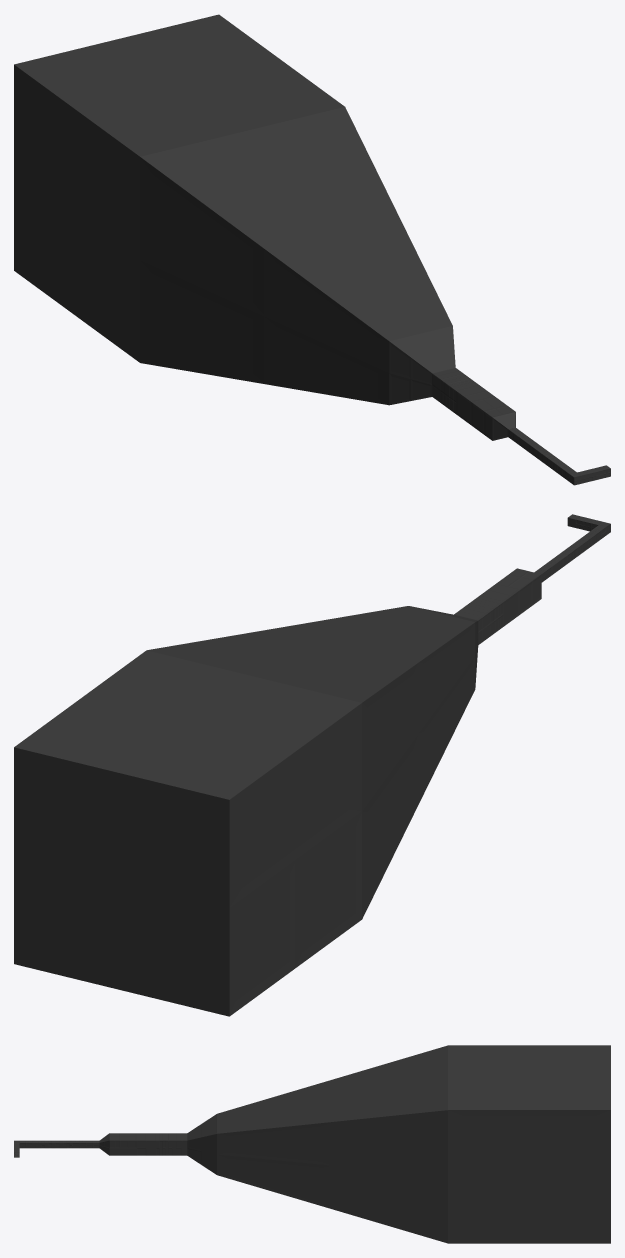
File: tunnel_masterfile.obj
3 renders of one model, top to bottom at view 1: azimuth 30°, elevation 25°; view 2: azimuth 150°, elevation 25°; view 3: azimuth 270°, elevation 25°, orthographic. The views are drawn at different scales.
Parts seen in each view (by area): view 1: tunnel; view 2: tunnel; view 3: tunnel.
Part boxes in pixels (box(x1,y1,x2,y2)): tunnel: box(14, 14, 610, 485); tunnel: box(14, 514, 610, 1016); tunnel: box(14, 1045, 610, 1243).
Bounding box in the file's own units: 416 × 400 × 1623.
Materials: 1 (1 with a texture image).
